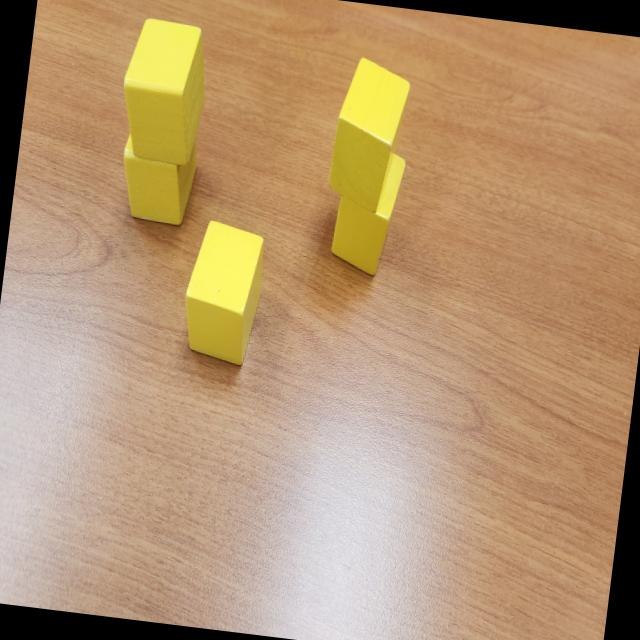yellow: (113, 15, 214, 166), (324, 56, 414, 216), (178, 218, 270, 369), (328, 144, 407, 278), (114, 120, 202, 228)
